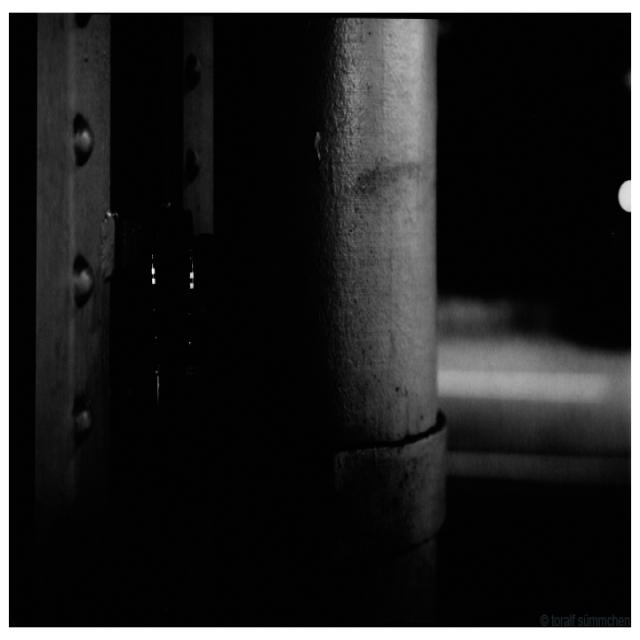Bottle: (125, 166, 210, 490)
